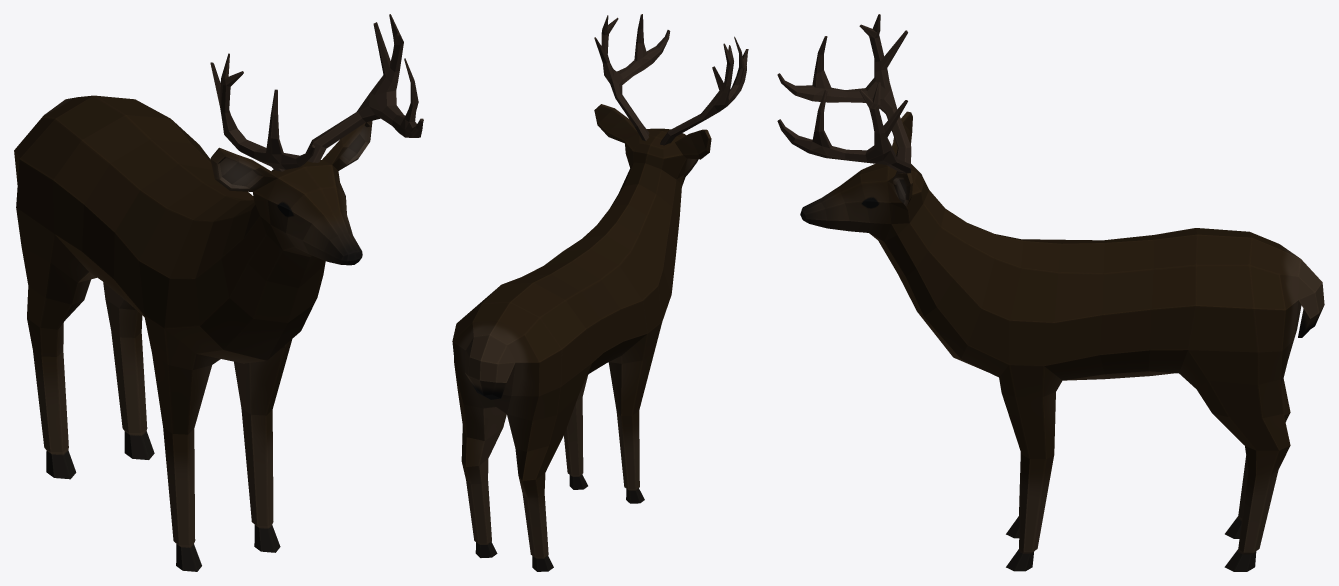
Rendered from MuleDeer.gltf.
3 renders of one model, left to right at view 1: azimuth 30°, elevation 25°; view 2: azimuth 150°, elevation 25°; view 3: azimuth 270°, elevation 25°, orthographic. The views are drawn at different scales.
Parts seen in each view (by area): view 1: node-0; view 2: node-0; view 3: node-0.
Boxes of the visible parts, x1=… form: node-0: x1=14, y1=14, x2=423, y2=571; node-0: x1=452, y1=14, x2=748, y2=571; node-0: x1=777, y1=14, x2=1324, y2=571.
Bounding box in the file's own units: 4.79 × 14.89 × 14.69.
1 material, 1 textured.
